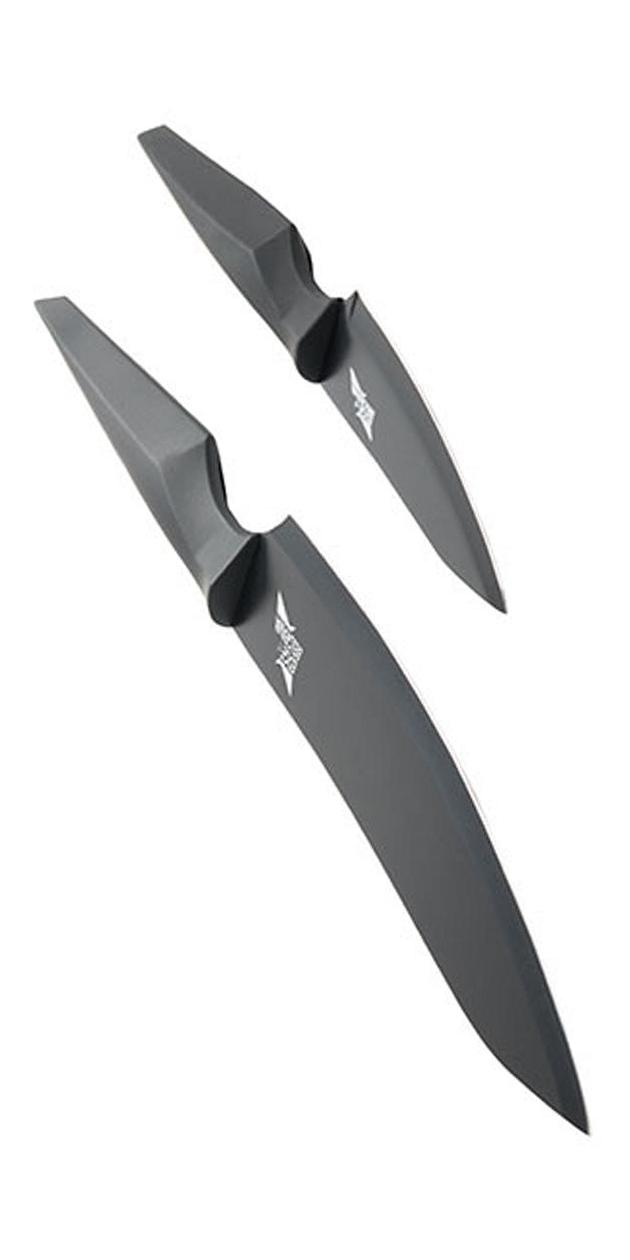knife: (29, 303, 593, 1139), (135, 124, 510, 614)
